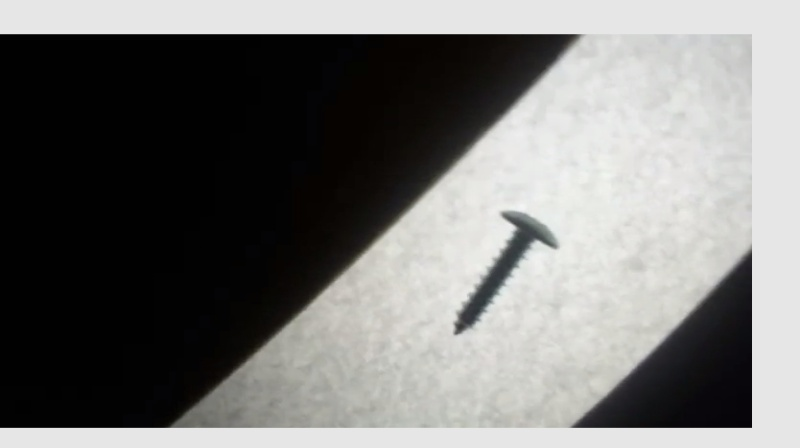S003: (449, 206, 561, 339)
